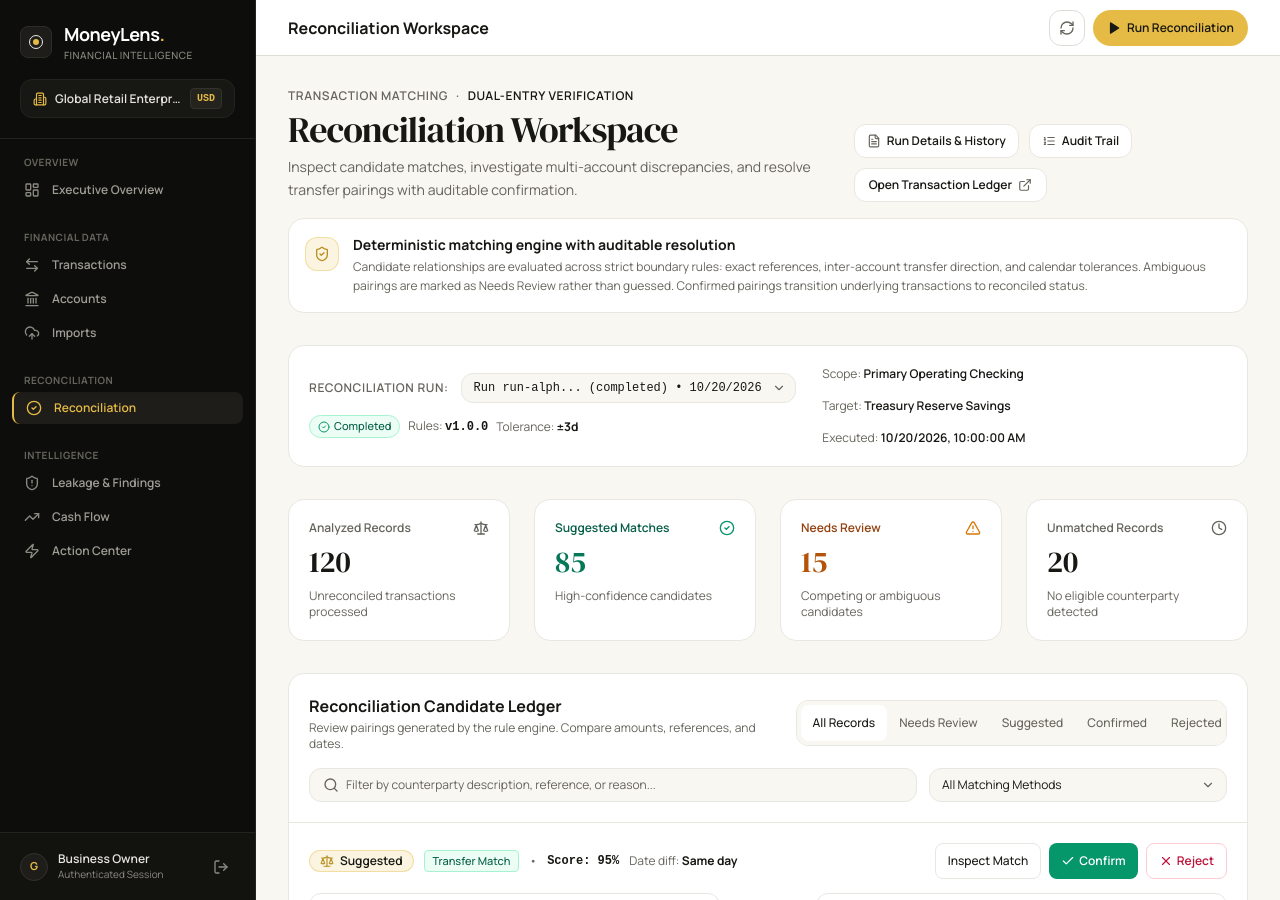
Test case: MoneyLens Reconciliation Workspace Page Component Suite › opens match inspection modal and renders detailed evidence breakdown
Click the button "Inspect Match".
click(988, 860)  # box [935, 842, 1041, 878]
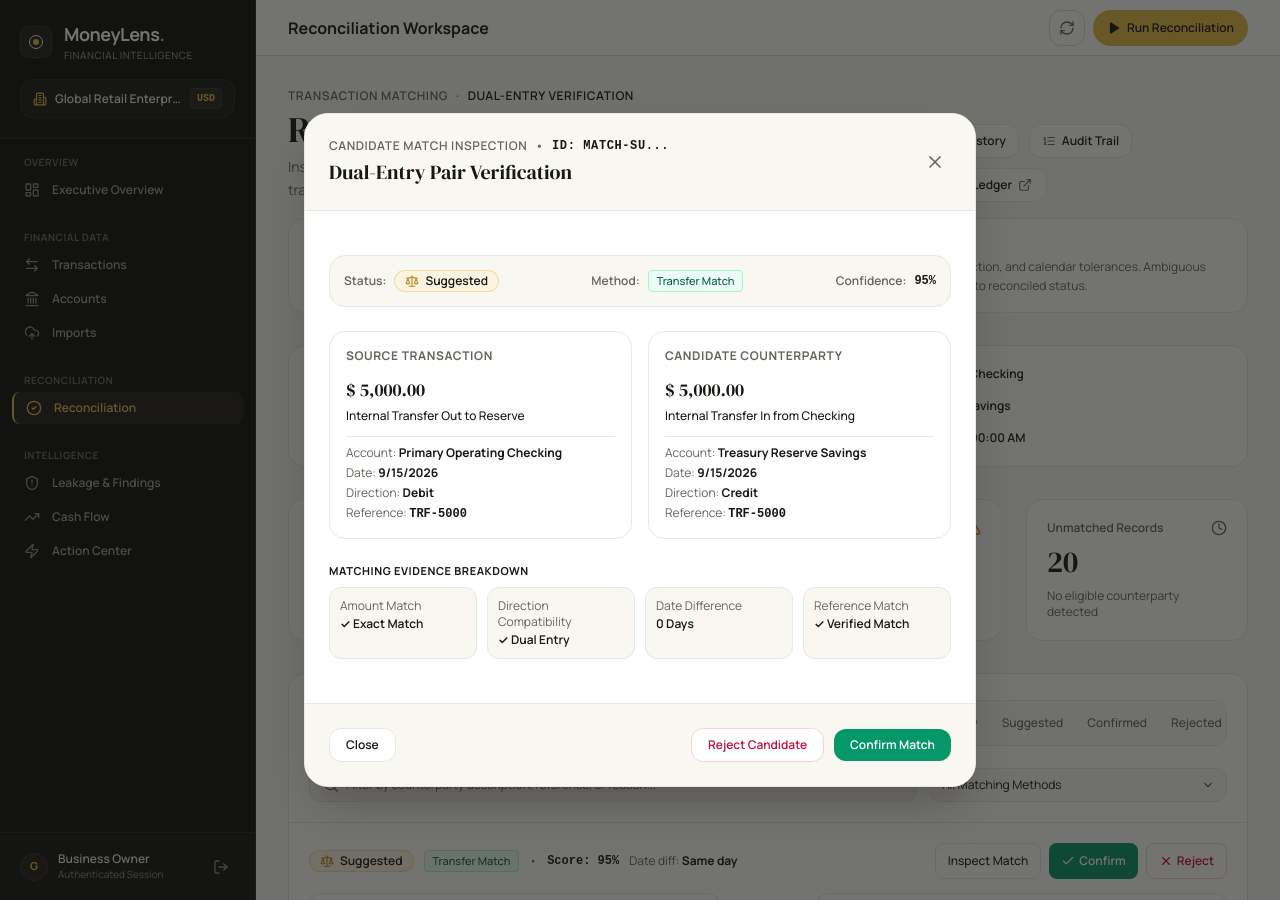
Now the heading "Dual-Entry Pair Verification" is shown, box [329, 158, 572, 186]
Now the text "Matching Evidence Breakdown" is shown, box [329, 563, 529, 578]
Now the text "✓ Exact Match" is shown, box [340, 615, 423, 632]
